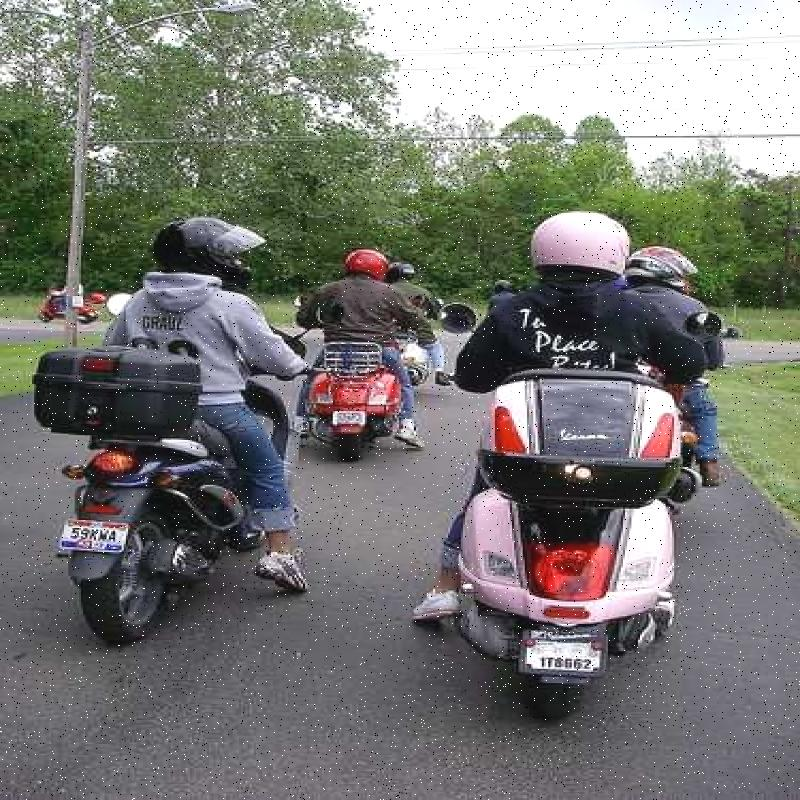bike: (477, 390, 709, 730), (29, 342, 277, 655), (304, 333, 410, 449)
